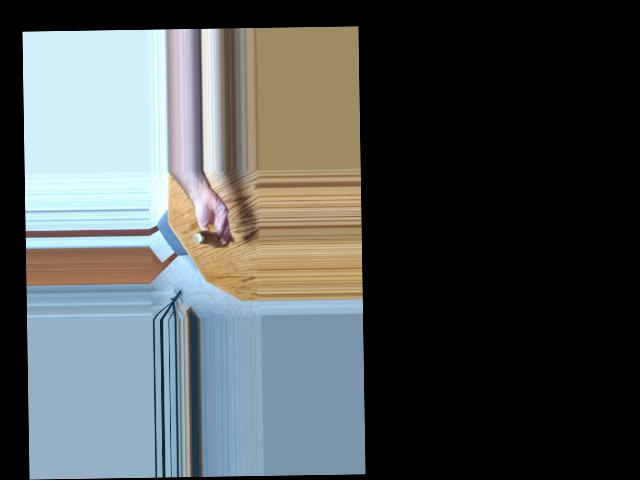sweet_potato: (188, 221, 231, 250)
